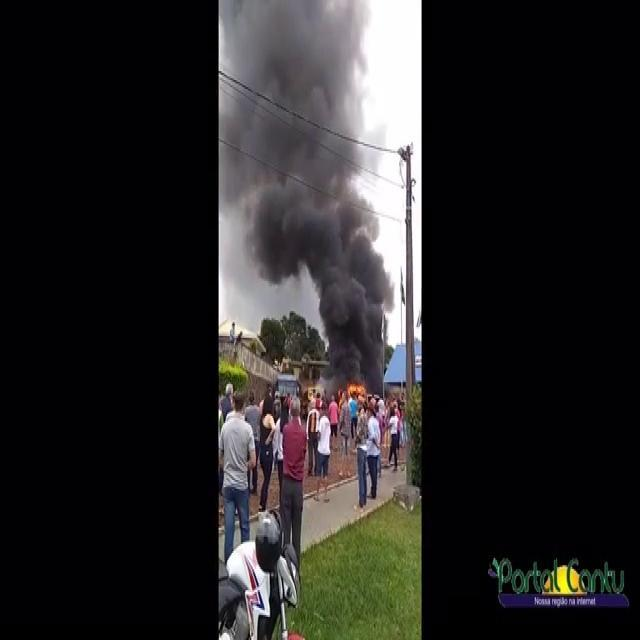Fire: (343, 380, 369, 402)
Smoke: (218, 0, 398, 375)
